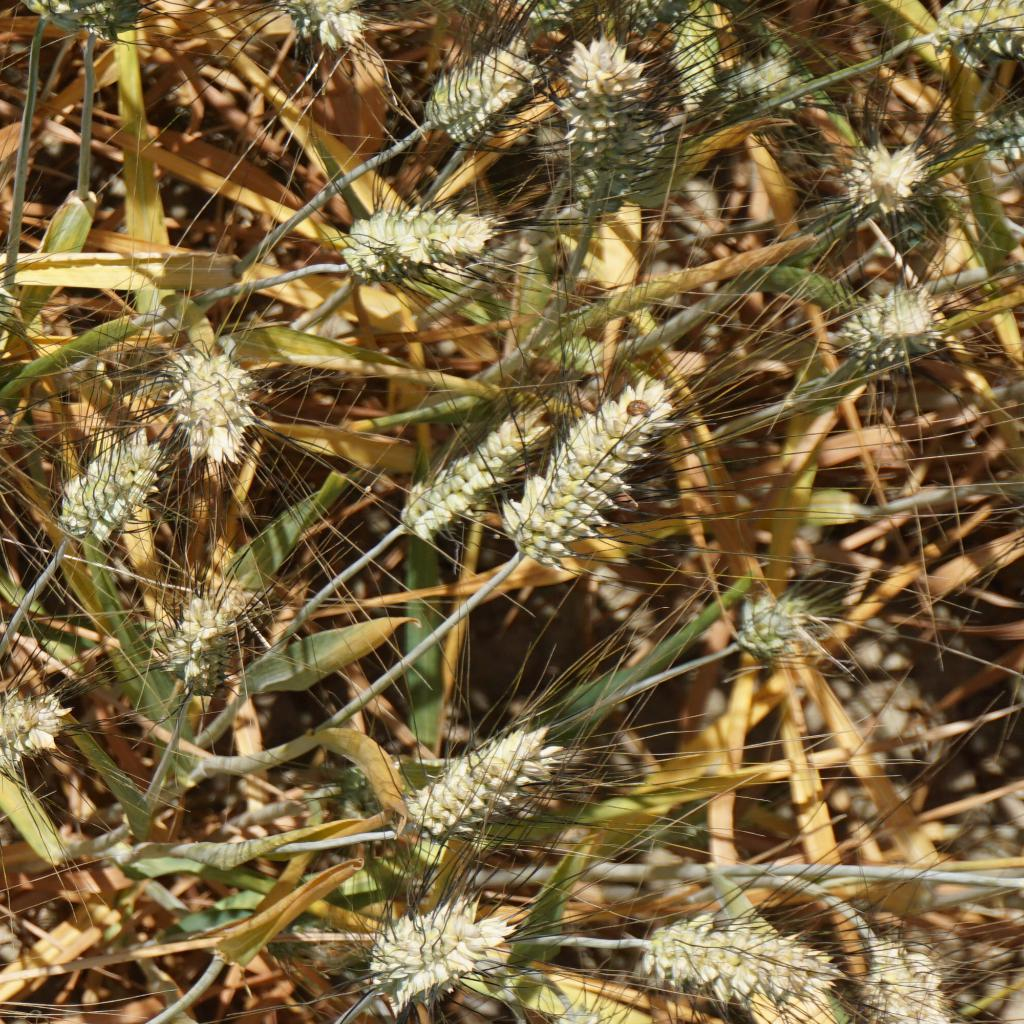0-0: (504, 382, 679, 552), (394, 409, 552, 531), (643, 922, 818, 1007), (408, 734, 557, 822), (338, 209, 494, 287), (830, 284, 952, 380), (163, 355, 258, 470), (375, 913, 493, 1004), (562, 43, 631, 192), (410, 45, 540, 123), (163, 594, 264, 692), (55, 430, 152, 523), (860, 935, 957, 1024), (598, 102, 670, 214), (330, 738, 464, 794), (688, 55, 792, 119), (931, 0, 1014, 76), (847, 138, 926, 214), (282, 0, 381, 55), (0, 687, 60, 765), (738, 594, 809, 652), (973, 101, 1024, 161), (546, 1004, 613, 1024)
